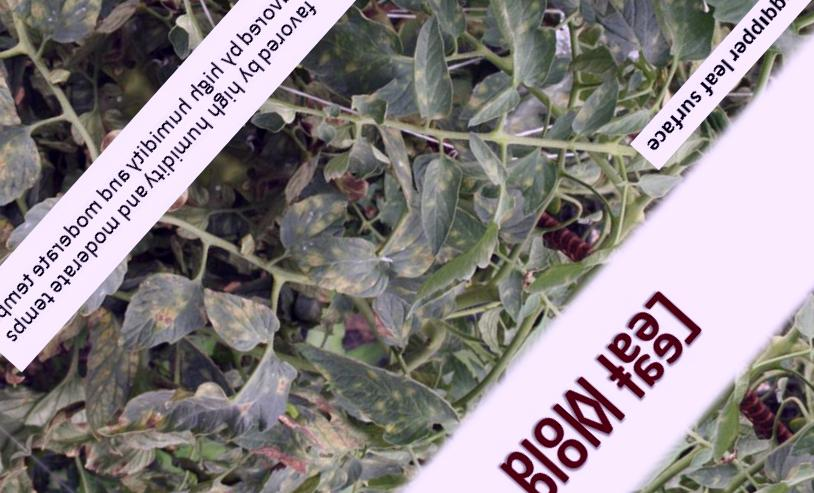Tomato mold leaf: (104, 318, 292, 493), (286, 289, 468, 464), (348, 150, 498, 303), (37, 306, 180, 450), (395, 0, 608, 88), (93, 253, 224, 387), (559, 0, 749, 84), (370, 8, 495, 132), (288, 208, 405, 323), (180, 257, 293, 368), (528, 0, 685, 68), (489, 142, 571, 226), (455, 67, 531, 146), (376, 0, 487, 50), (559, 74, 630, 148), (454, 131, 516, 190)
